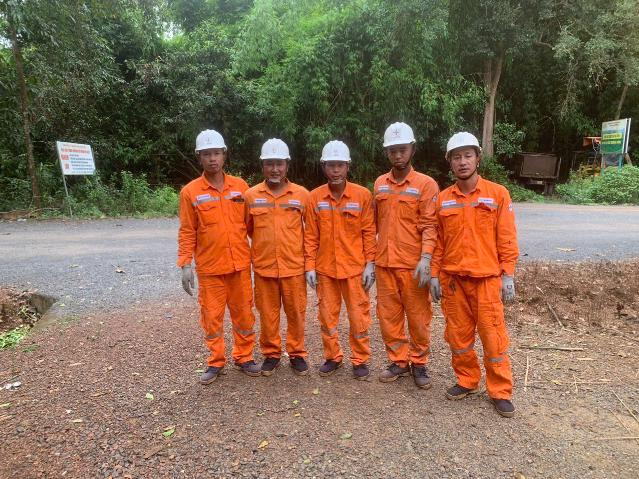gloves: (491, 267, 538, 303), (408, 251, 444, 292), (302, 264, 333, 301), (177, 266, 212, 295), (429, 274, 457, 307), (360, 258, 388, 290)
helmet: (439, 121, 512, 162), (370, 114, 431, 151), (180, 121, 241, 157), (250, 130, 308, 163), (313, 135, 365, 166)
shoes: (444, 360, 485, 413), (373, 349, 413, 400), (487, 382, 535, 423), (190, 348, 232, 391), (230, 343, 264, 387), (318, 340, 348, 387), (410, 350, 439, 395), (287, 342, 312, 392), (262, 342, 285, 390), (353, 345, 373, 397)
